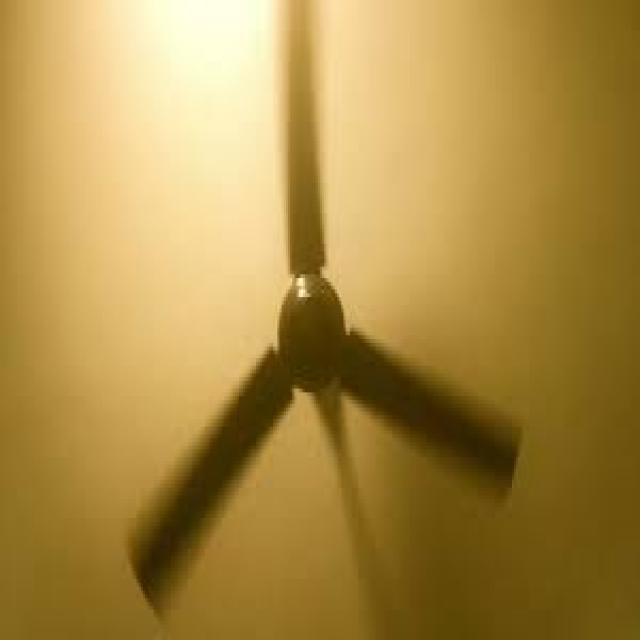fan_off: (123, 8, 528, 604)
